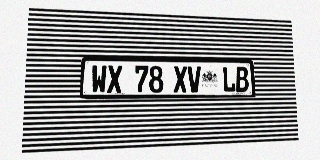7: (134, 65, 149, 93)
8: (149, 66, 163, 93)
B: (235, 67, 249, 92)
L: (222, 66, 236, 92)
V: (187, 66, 201, 92)
W: (91, 65, 107, 93)
X: (107, 65, 122, 93), (173, 66, 187, 92)
